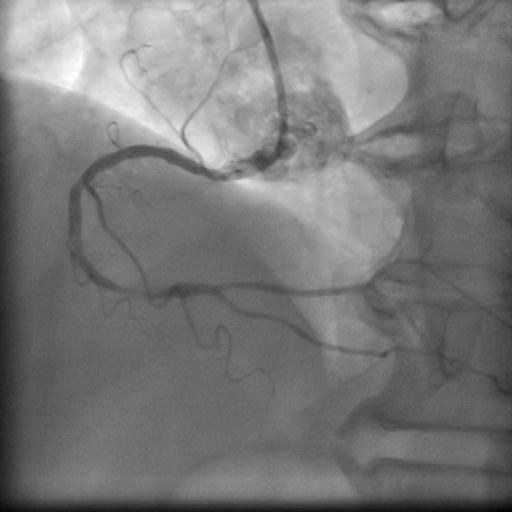Stenosis: (114, 282, 159, 303)
